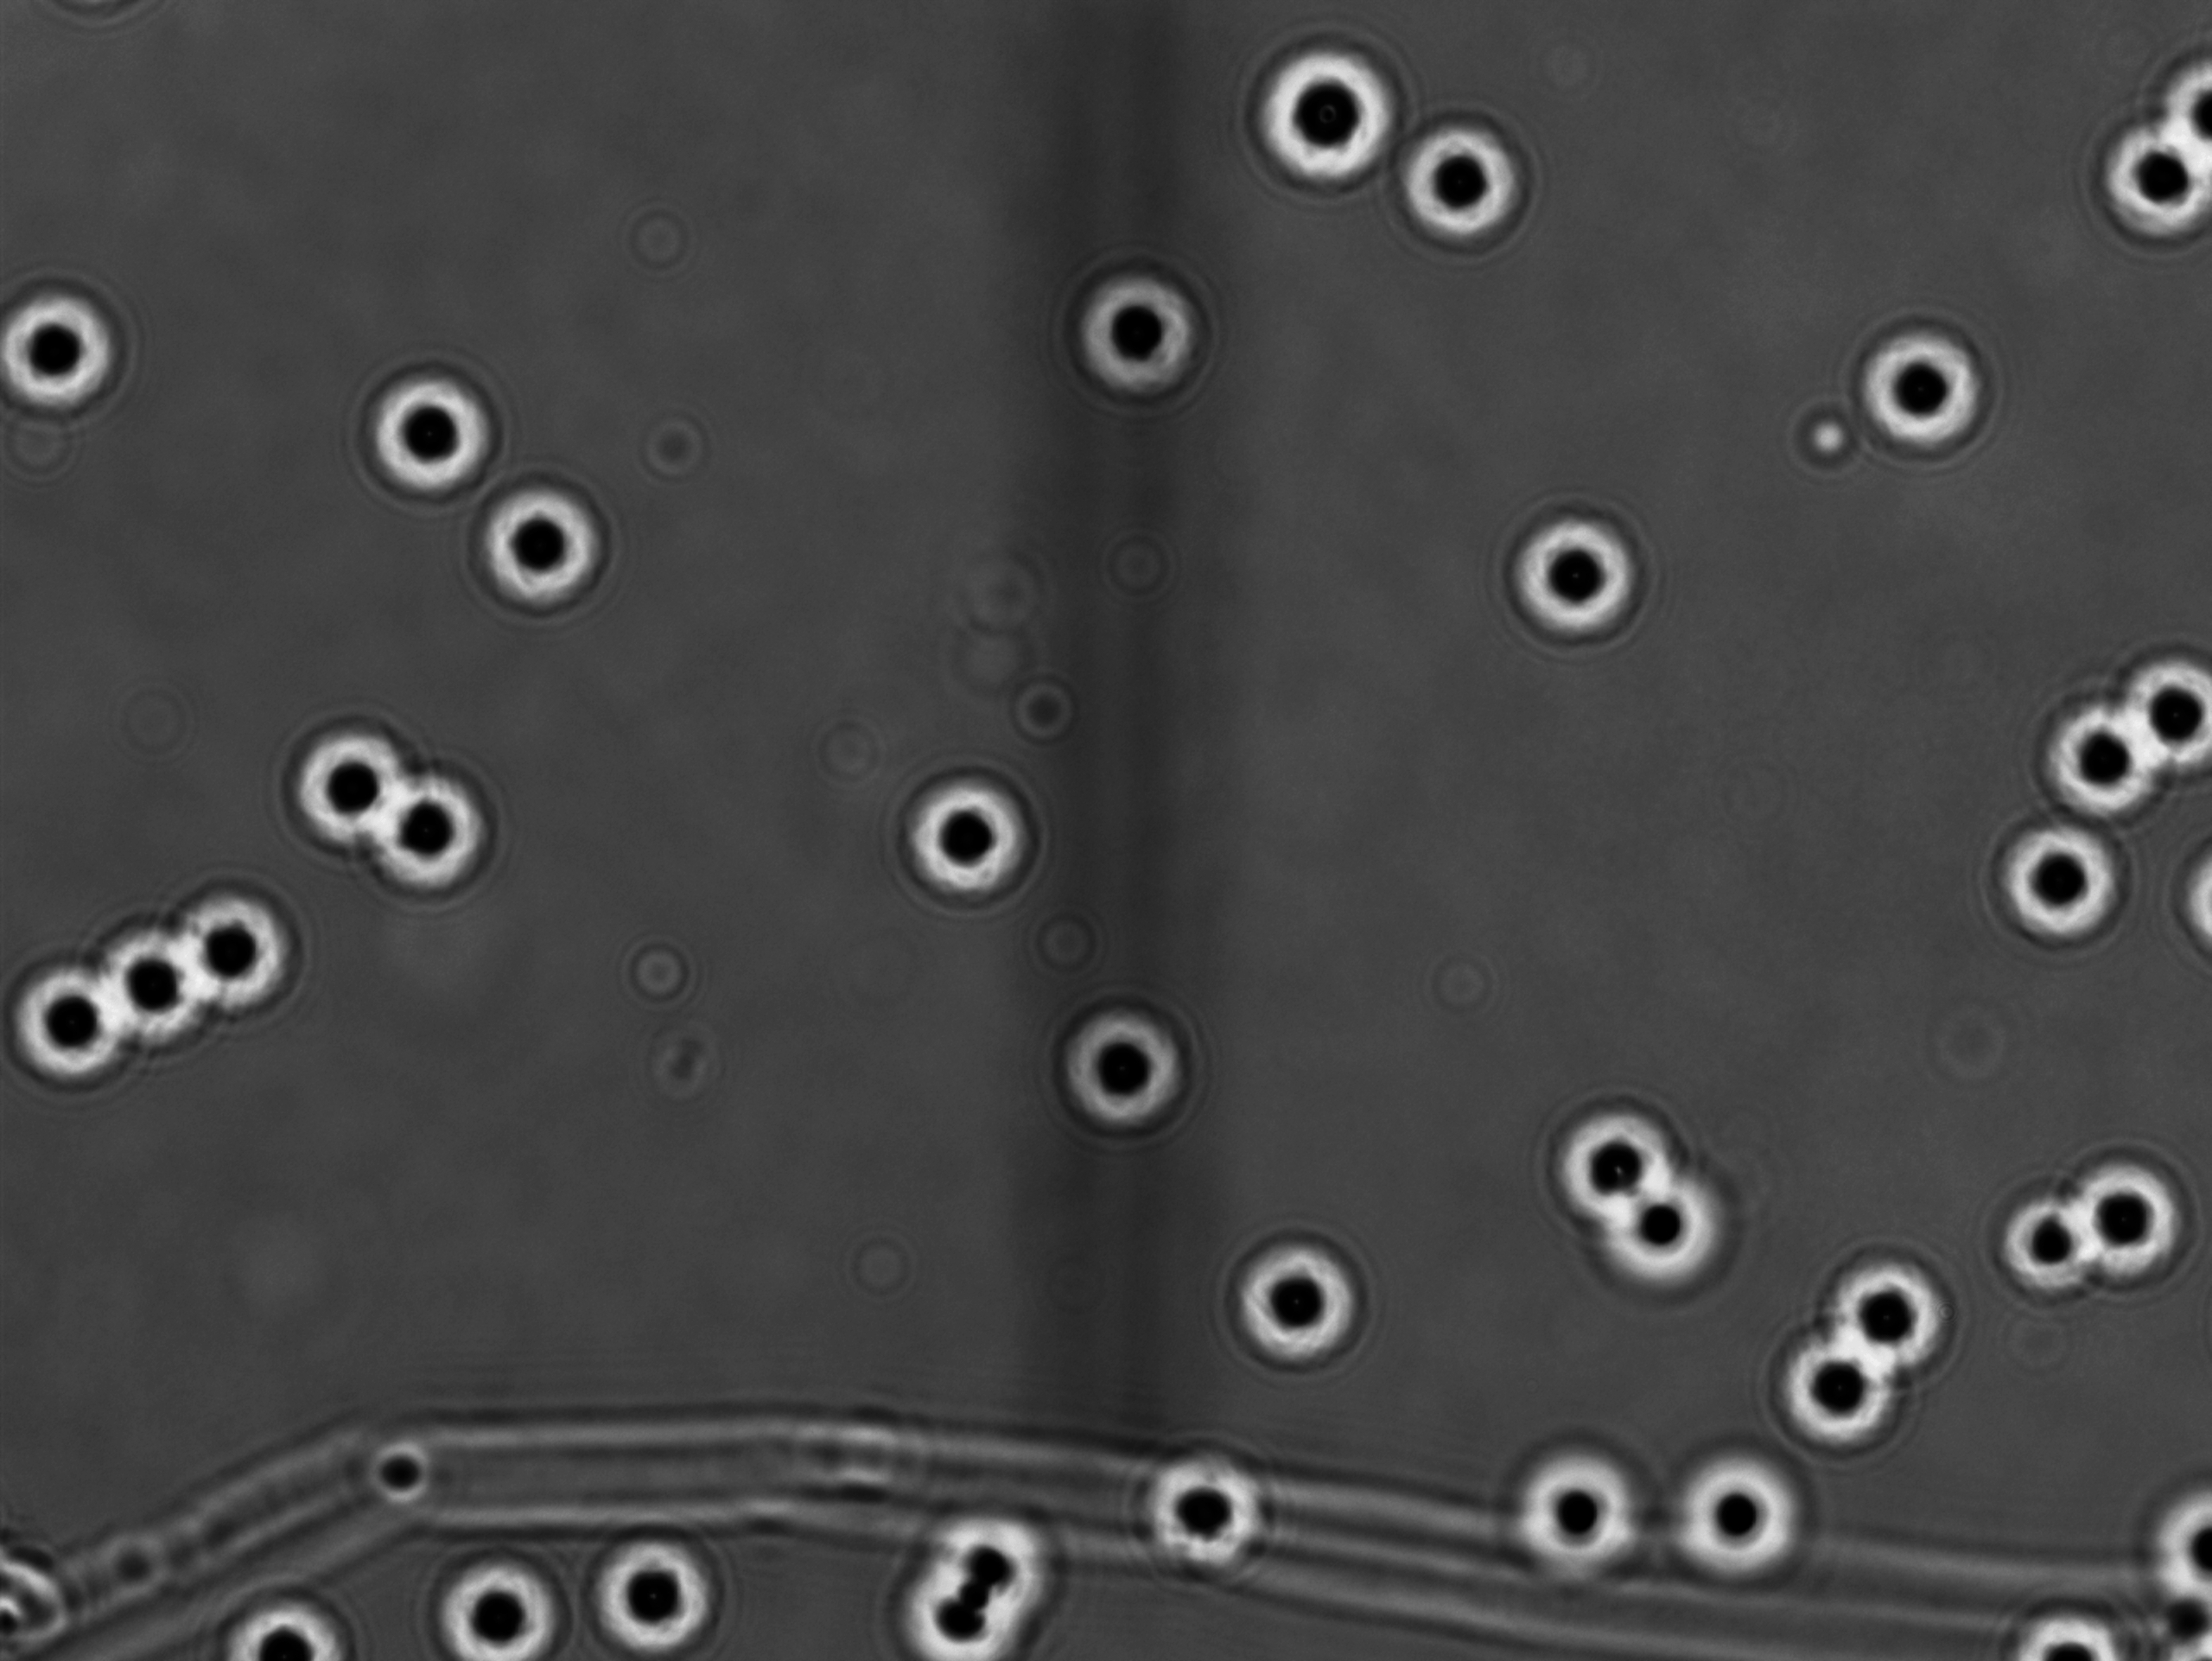depth:-20: (1230, 35, 1418, 206), (881, 748, 1059, 925), (1642, 1436, 1823, 1607), (1127, 1425, 1298, 1600), (1499, 1434, 1669, 1600), (2048, 1124, 2207, 1302), (1975, 792, 2139, 961), (462, 462, 626, 630), (1212, 1209, 1371, 1382), (1526, 1080, 1697, 1239), (1057, 249, 1219, 415), (1493, 492, 1654, 660), (345, 356, 509, 516), (1043, 982, 1207, 1143), (270, 707, 429, 867), (1376, 94, 1532, 258), (556, 1514, 726, 1661), (1744, 1291, 1903, 1446), (1846, 304, 1999, 462), (84, 904, 239, 1059), (167, 862, 312, 1022), (366, 764, 513, 918), (2085, 92, 2212, 263), (1814, 1220, 1959, 1370), (1605, 1169, 1748, 1317), (410, 1542, 583, 1661)
